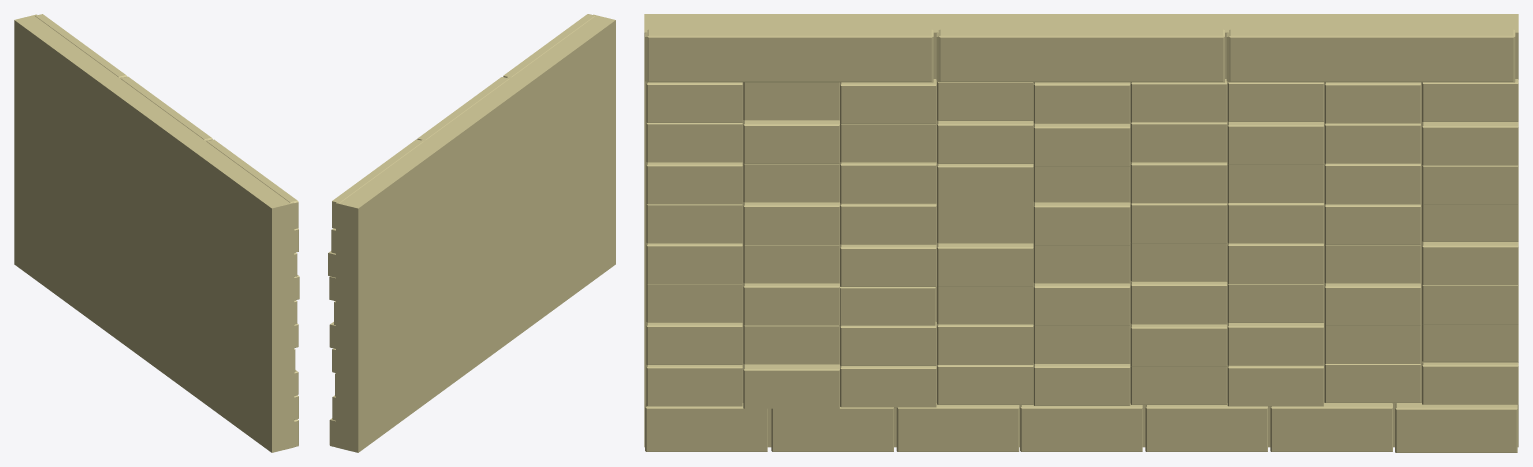
The model's file is Wall-1.fbx.
The picture shows the model from 3 angles, left to right: view 1: azimuth 30°, elevation 25°; view 2: azimuth 150°, elevation 25°; view 3: azimuth 270°, elevation 25°; orthographic projection. The views are drawn at different scales.
Parts seen in each view (by area): view 1: 立方体_1; view 2: 立方体_1; view 3: 立方体_1.
Part boxes in pixels (x1,y1,x2,y2): 立方体_1: [14, 14, 299, 452]; 立方体_1: [328, 14, 615, 452]; 立方体_1: [644, 14, 1518, 452].
Bounding box in the file's own units: 84.47 × 634 × 1209.
